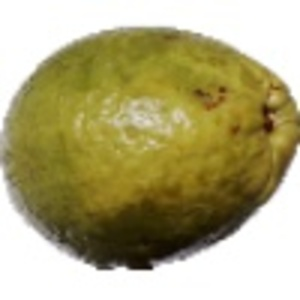goiaba: (3, 27, 299, 270)
